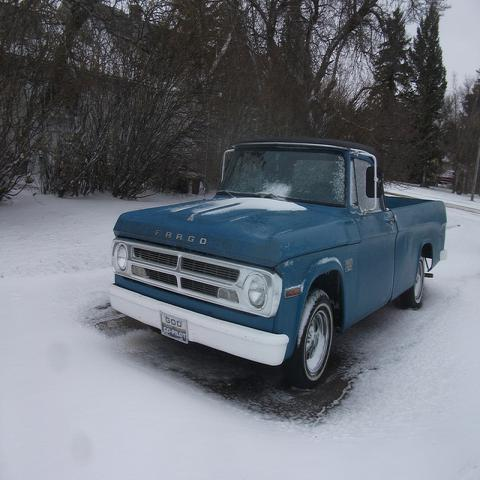truck: (105, 142, 449, 382)
